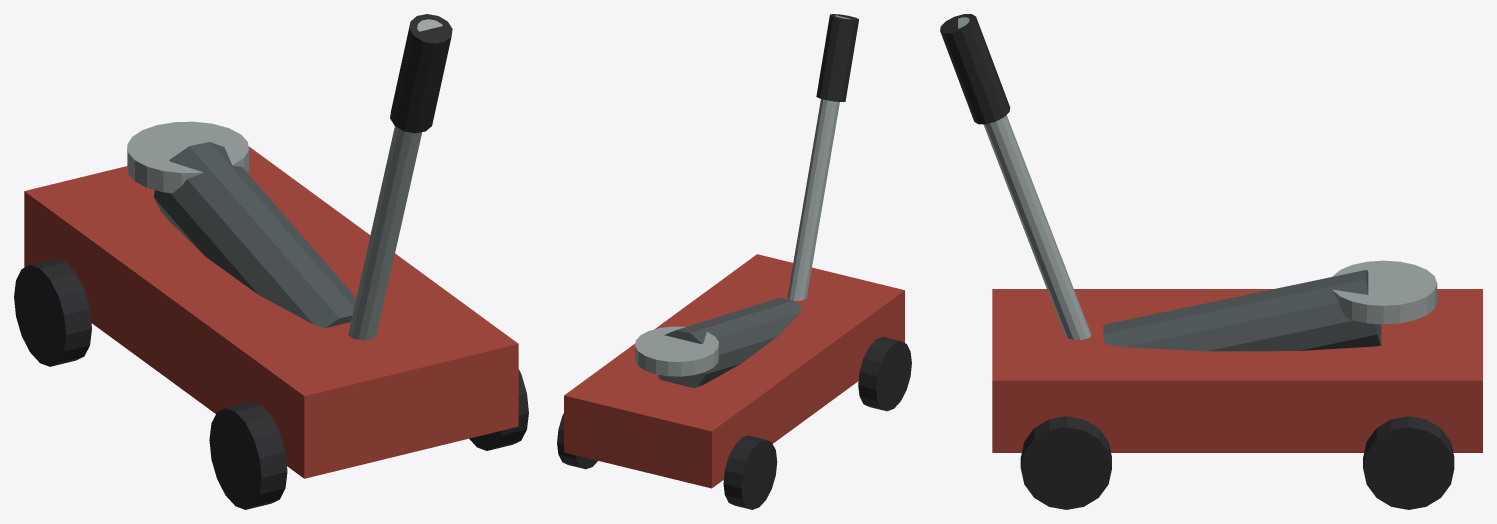
File: TOOL_FloorJack.glb
3 views of the same model, side by side, from view 1: azimuth 30°, elevation 25°; view 2: azimuth 150°, elevation 25°; view 3: azimuth 270°, elevation 25° (orthographic). The views are drawn at different scales.
Parts seen in each view (by area): view 1: Chassis, LiftArm, Wheels, Lever, Saddle, Grip; view 2: Chassis, Wheels, LiftArm, Lever, Saddle, Grip; view 3: Chassis, Wheels, LiftArm, Lever, Saddle, Grip.
Part boxes in pixels (x1,y1,x2,y2): Chassis: (24, 146, 518, 478); LiftArm: (153, 142, 356, 328); Wheels: (14, 259, 528, 509); Lever: (348, 19, 442, 340); Saddle: (127, 121, 248, 193); Grip: (390, 14, 452, 133); Chassis: (564, 254, 904, 488); Wheels: (557, 337, 911, 509); LiftArm: (658, 297, 801, 388); Lever: (787, 15, 851, 300); Saddle: (635, 326, 718, 376); Grip: (816, 14, 858, 101); Chassis: (992, 289, 1482, 452); Wheels: (1020, 416, 1454, 509); LiftArm: (1103, 270, 1381, 351); Lever: (958, 17, 1090, 339); Saddle: (1332, 260, 1437, 324); Grip: (940, 14, 1010, 124).
Bounding box in the file's own units: 0.237 × 0.4204 × 0.4758.
